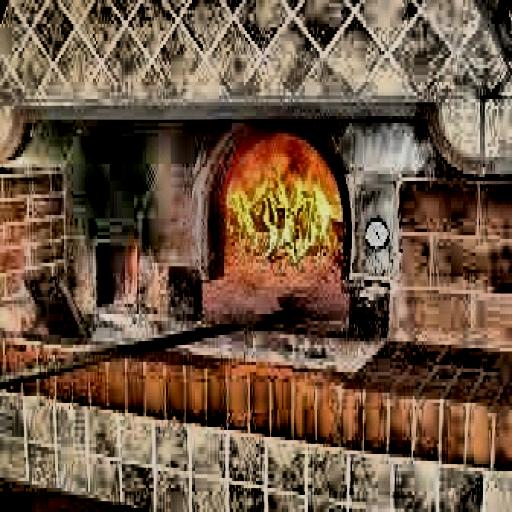fire: (213, 126, 349, 297)
